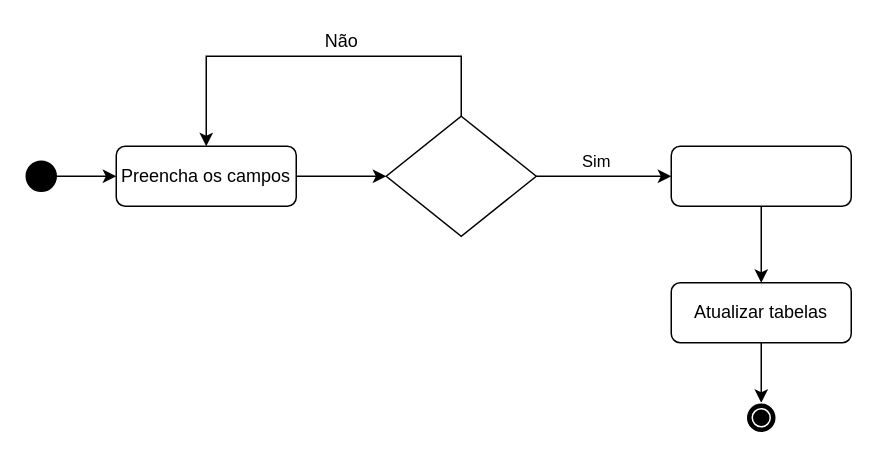
The diagram is 878 pixels wide and 459 high, and some of its shapes have lost their labels. The centre of each missing label's shape, as x and y in pixels:
"fazer cadastro no banco de dados" belongs at [760,175].
"Todos os campos preenchidos?" belongs at [460,175].
